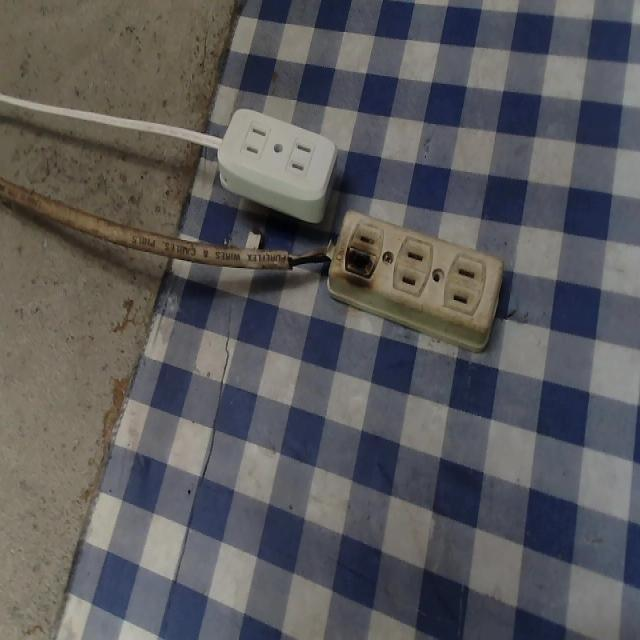-: (337, 237, 385, 283)
